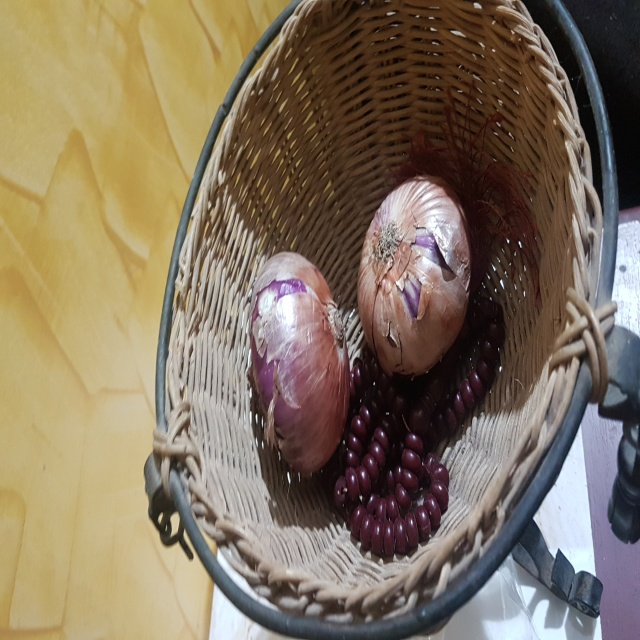onion: (238, 243, 364, 479), (351, 167, 475, 385)
